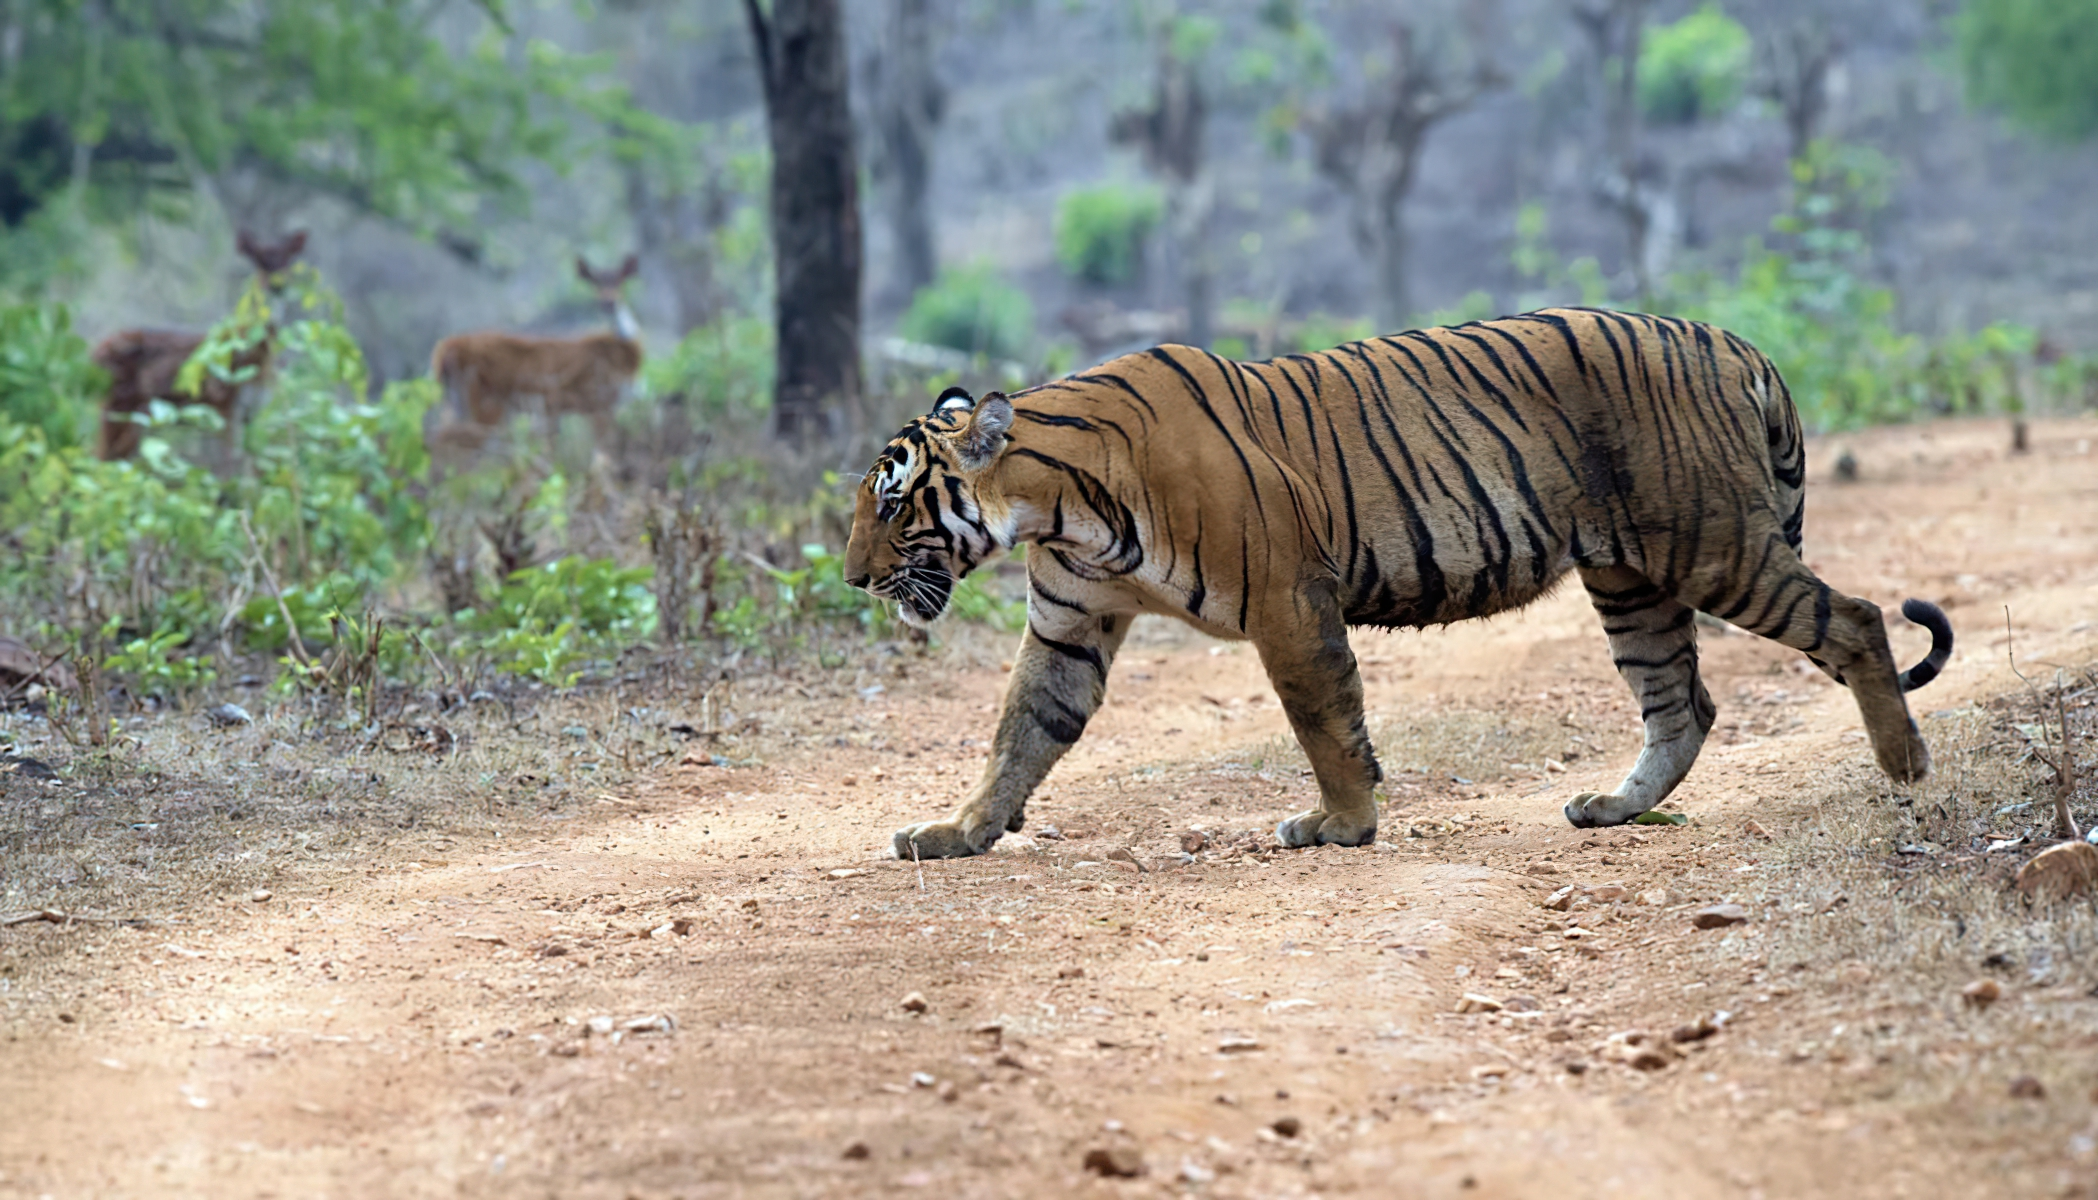tiger: (827, 278, 1973, 965)
